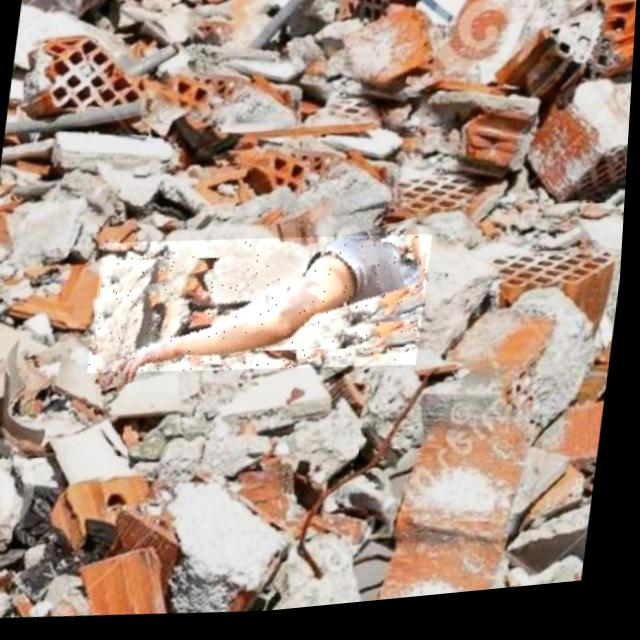Person in Rubble: (90, 220, 436, 398)
